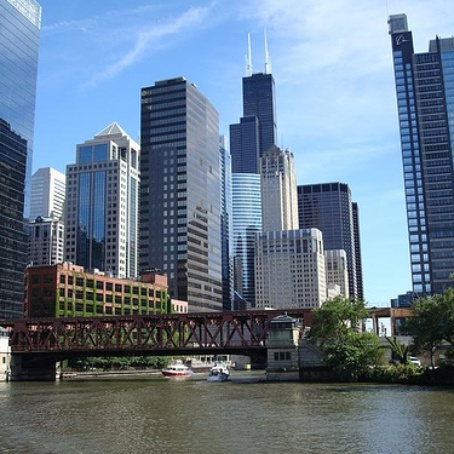building: (16, 305, 318, 379), (138, 88, 220, 310), (392, 22, 454, 294), (1, 4, 45, 321), (63, 125, 138, 276), (32, 265, 174, 329), (303, 187, 365, 310), (256, 222, 324, 312), (229, 174, 260, 312), (239, 60, 276, 170), (260, 147, 304, 230), (27, 215, 66, 267), (29, 163, 68, 215)
river: (4, 379, 454, 454)
sky: (41, 1, 399, 177)
tree: (304, 294, 383, 375), (397, 299, 454, 359)
